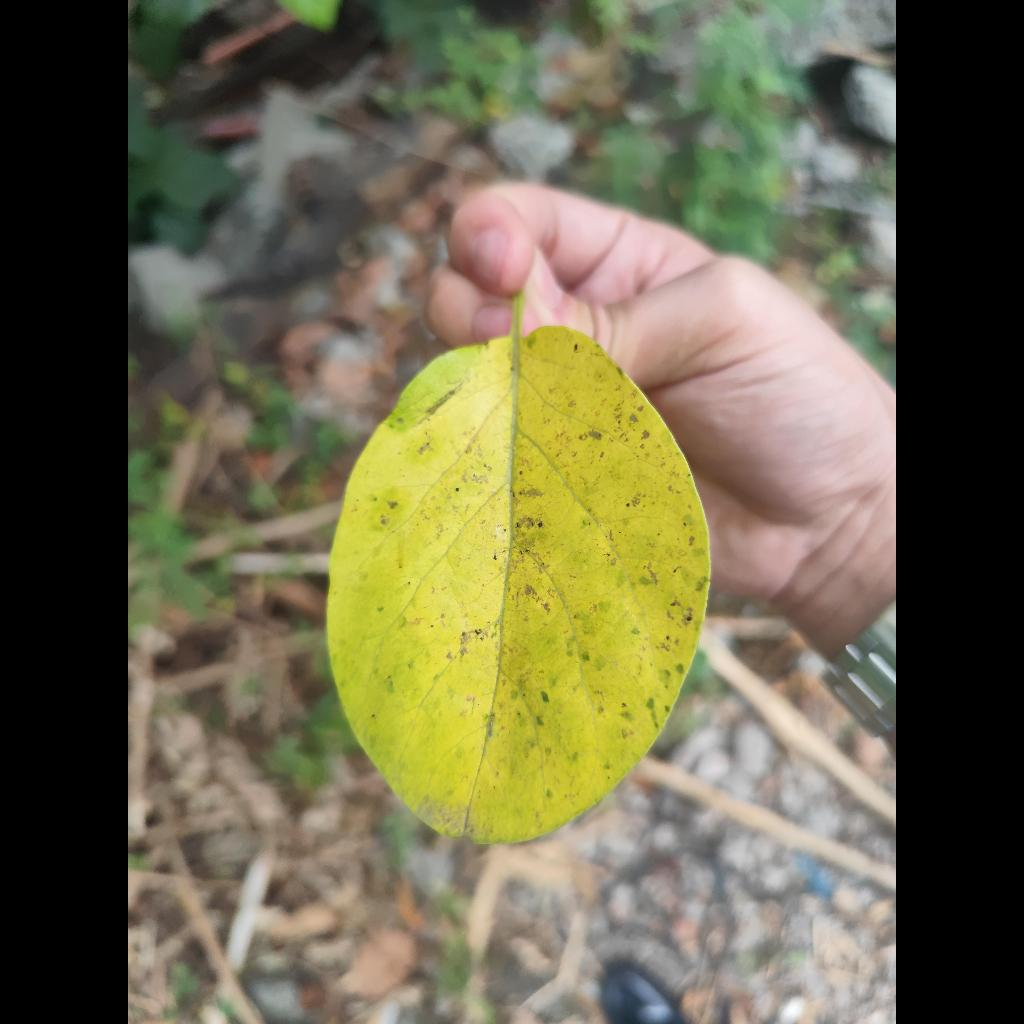deficiencia_nutricional: (329, 328, 709, 842)
